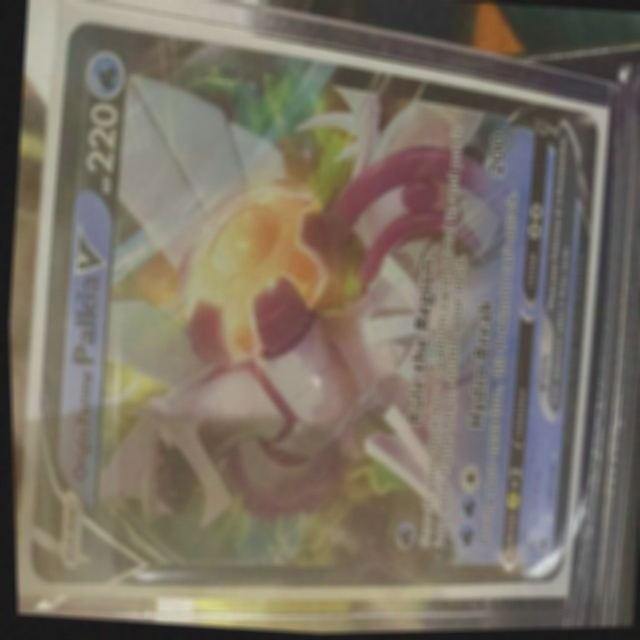card: (23, 15, 597, 590)
